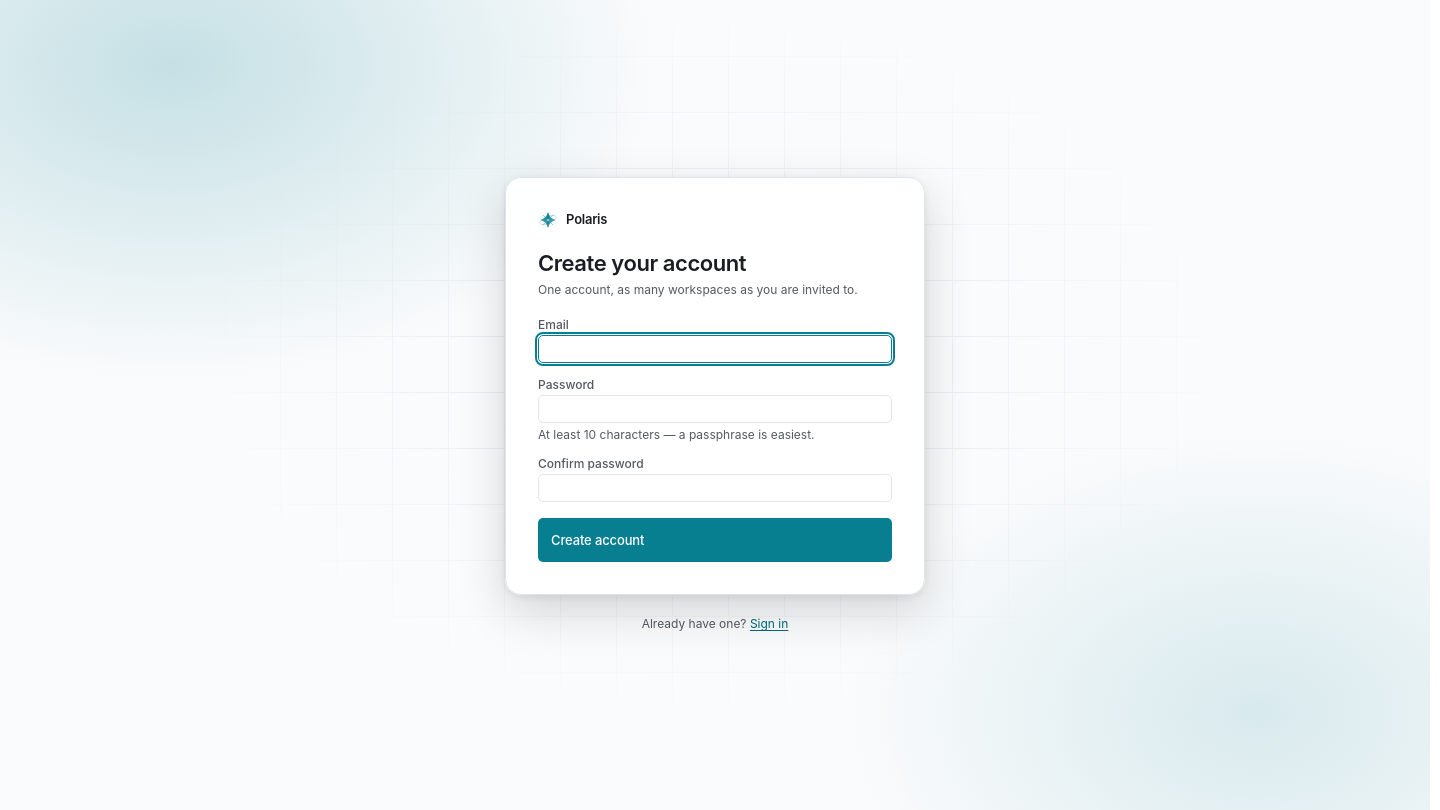
SignUp › still refuses a mistyped confirmation
This screenshot has width=1440, height=810.
Type "ada@example.com" into the field labelled "Email".
click(715, 349); type("ada@example.com")  # box x1=547 y1=336 x2=883 y2=362
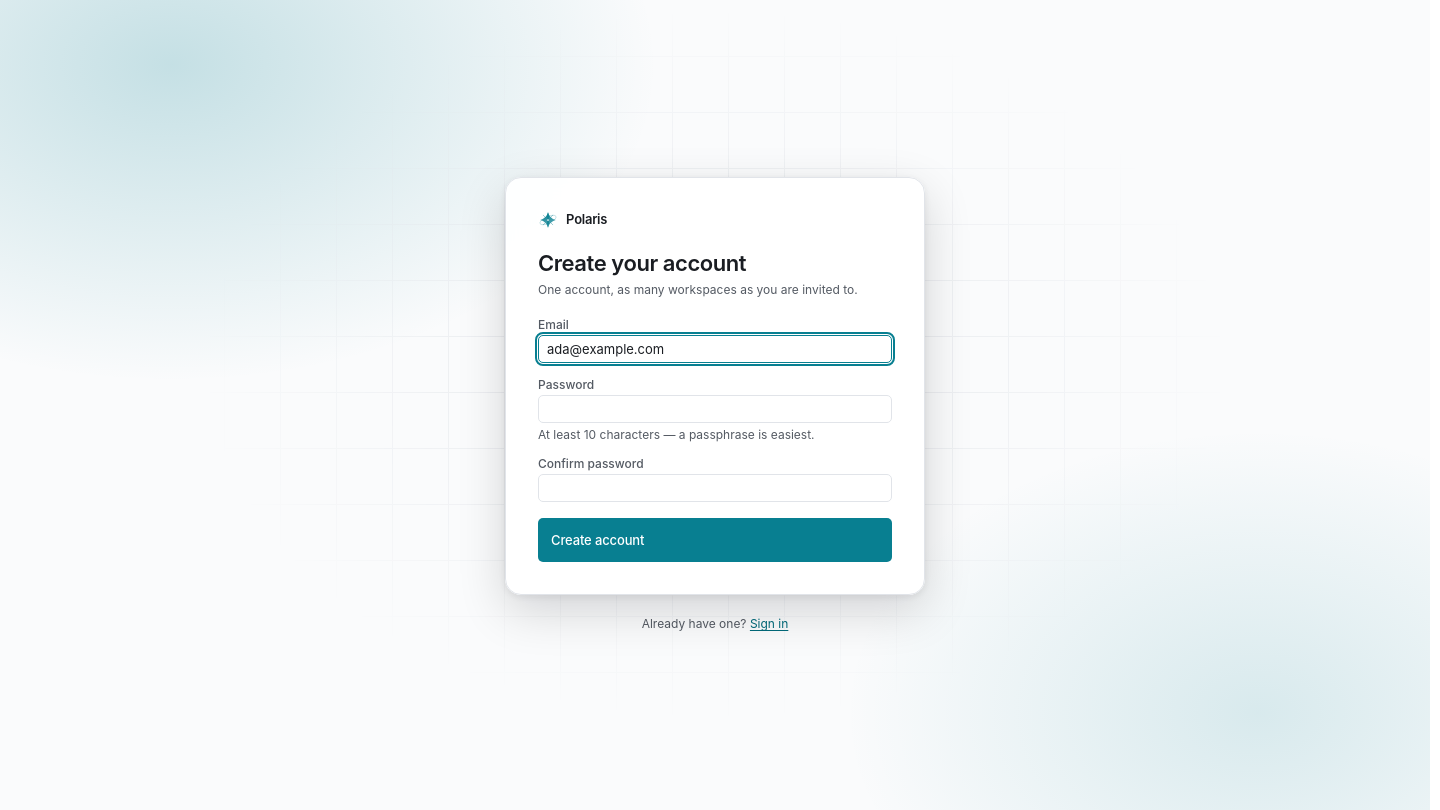
Type "passphrase1" into the password field labelled "Password".
click(715, 409); type("passphrase1")  # box x1=547 y1=396 x2=883 y2=422
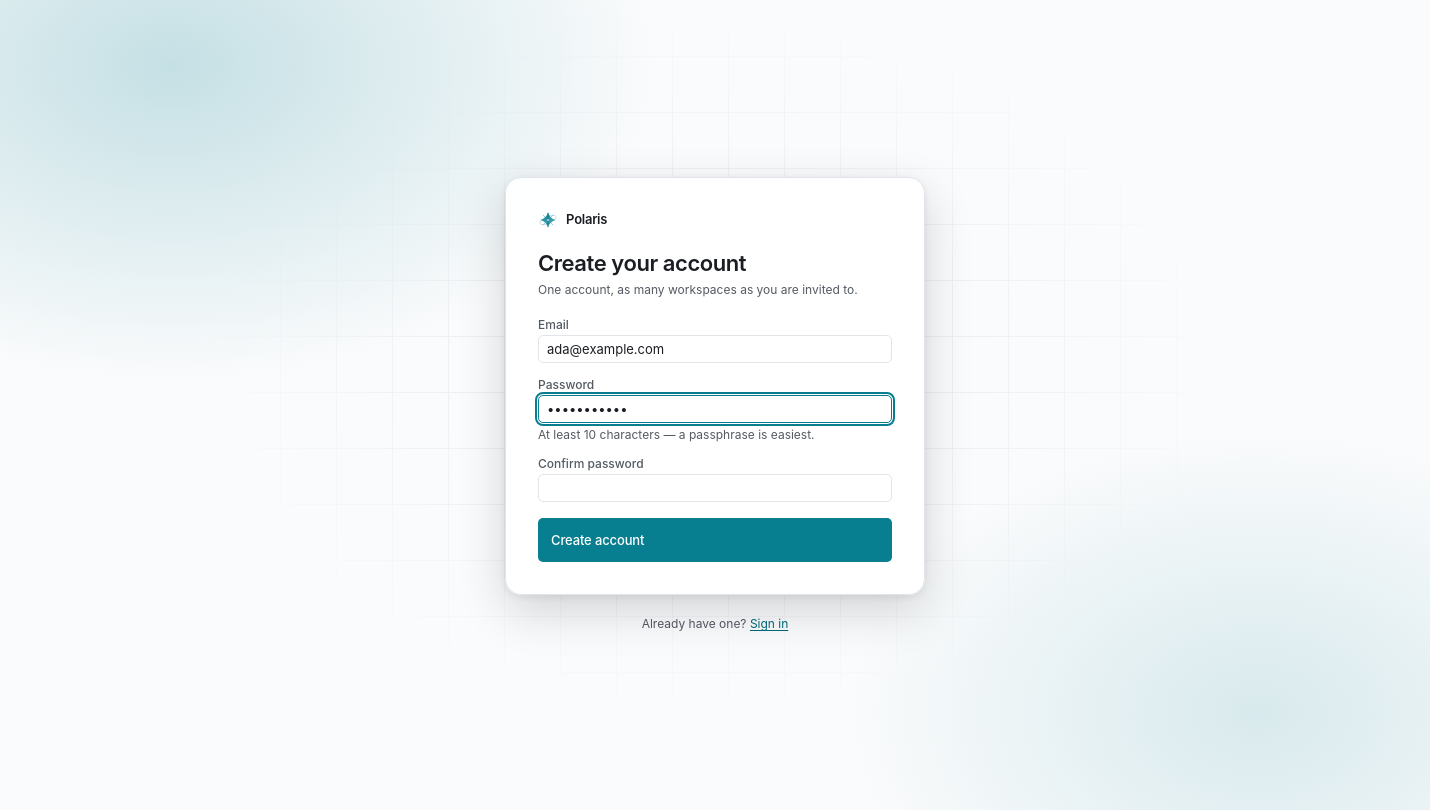
Type "passphrase2" into the password field labelled "Confirm password".
click(715, 488); type("passphrase2")  # box x1=547 y1=475 x2=883 y2=501
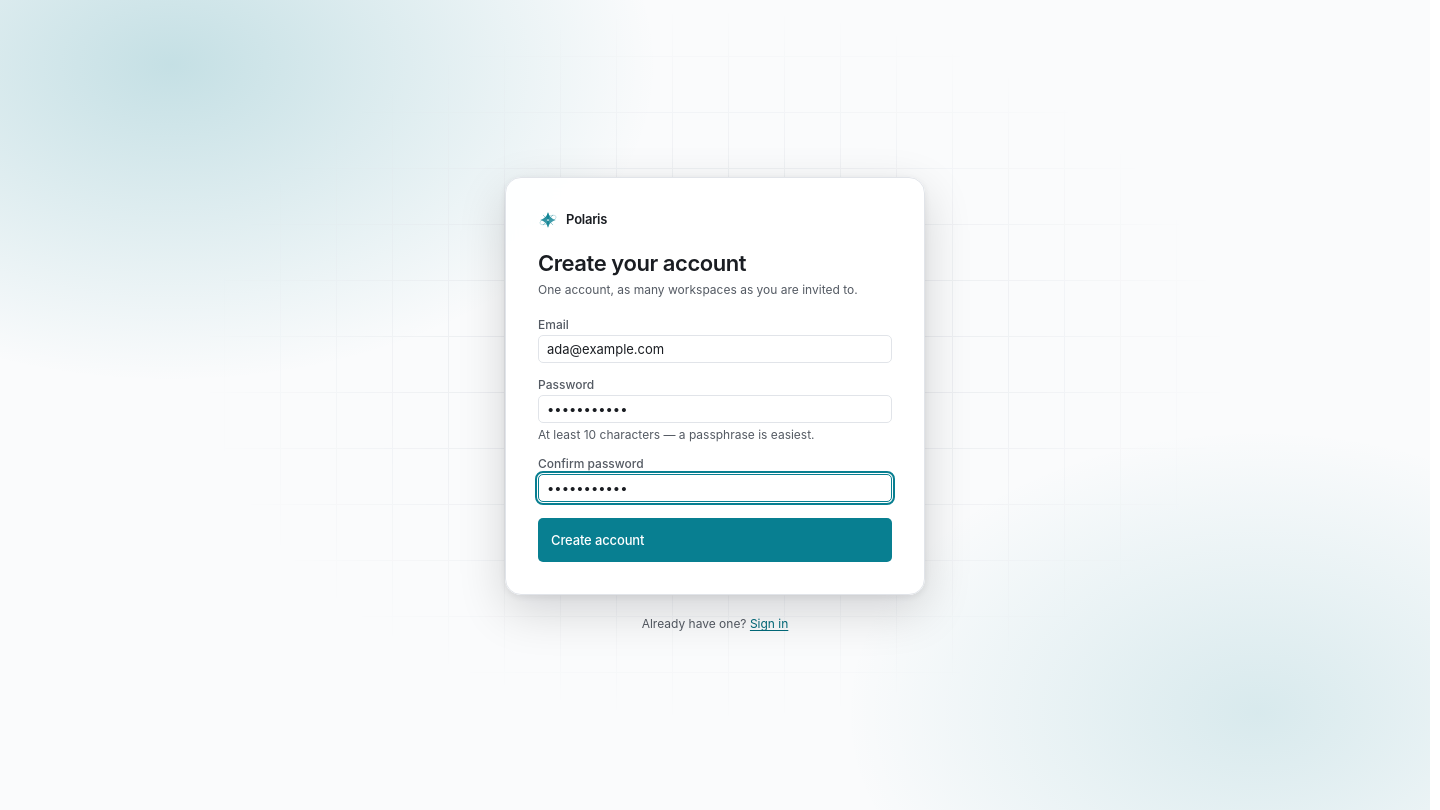
Click the button "Create account".
click(598, 540)  # box x1=538 y1=518 x2=892 y2=562
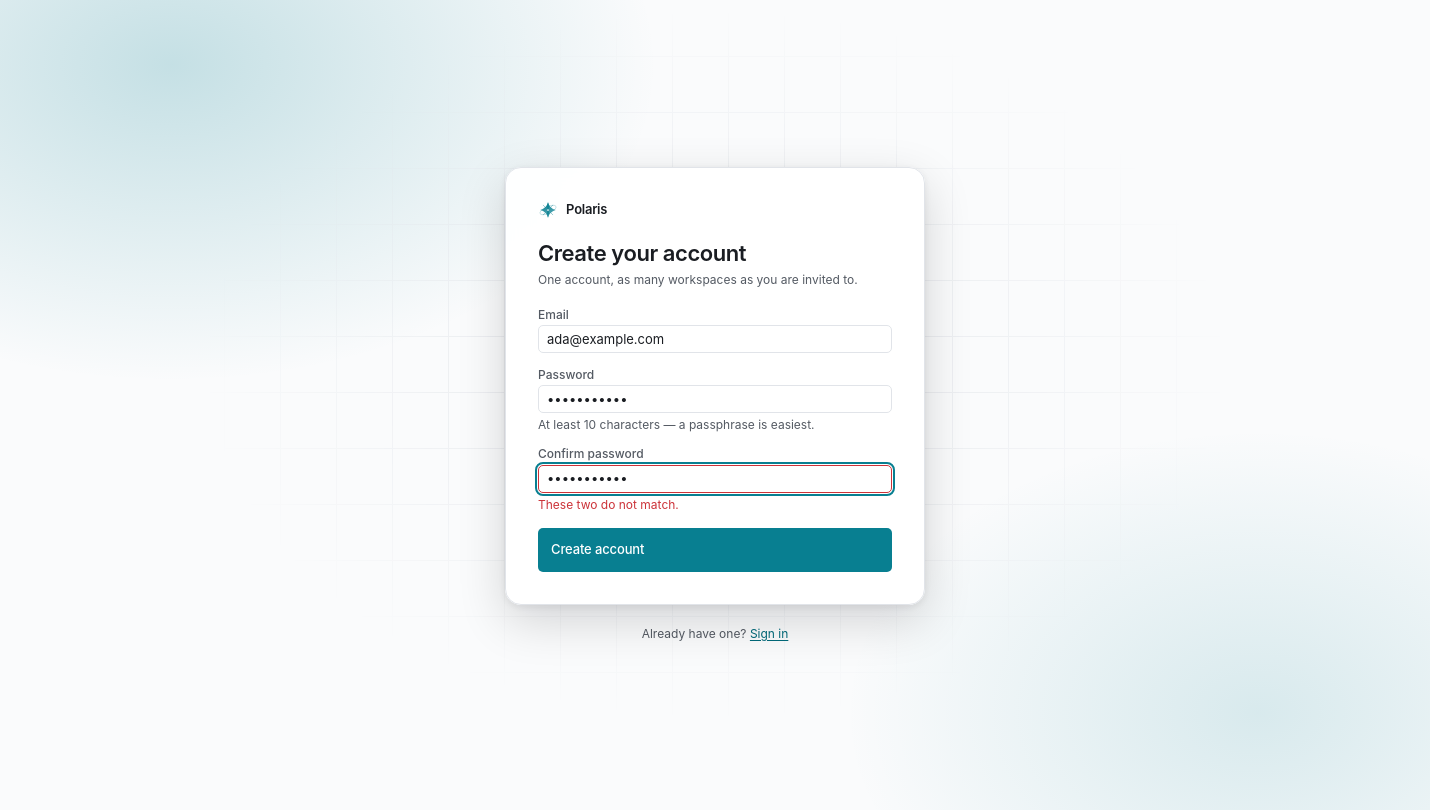
expect the message shows "do not match": met, box x1=538 y1=497 x2=679 y2=512
